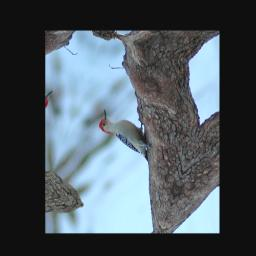Woodpecker: (91, 107, 161, 163)
